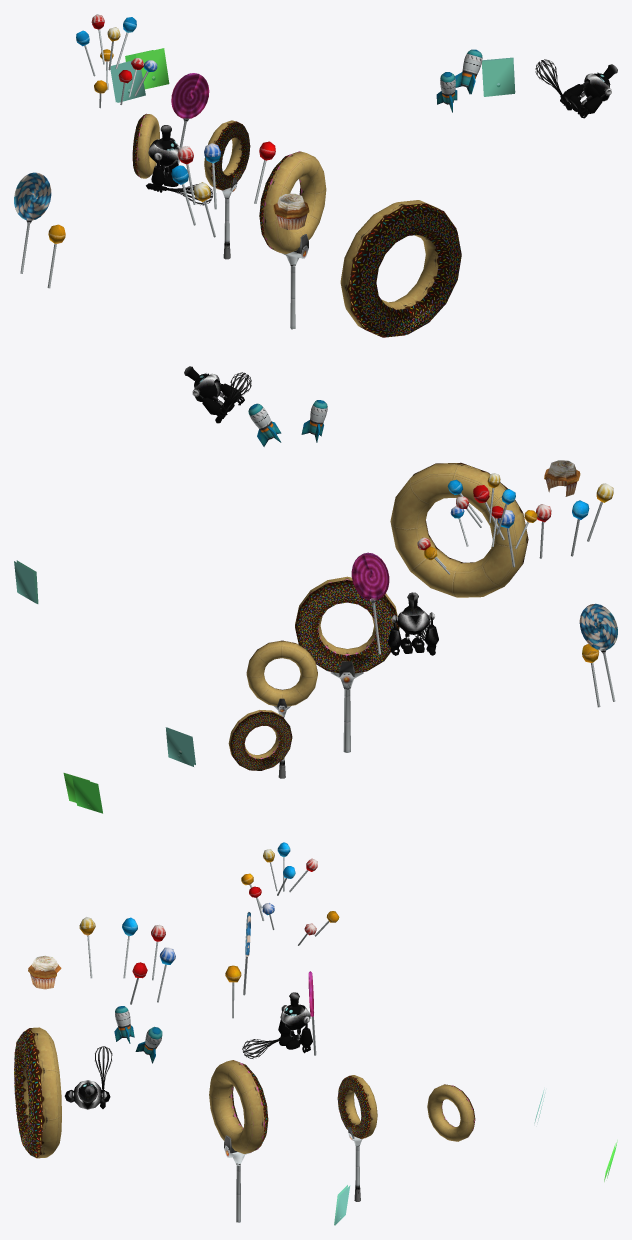
The model's file is MotBase.obj.
3 renders of one model, top to bottom at view 1: azimuth 30°, elevation 25°; view 2: azimuth 150°, elevation 25°; view 3: azimuth 270°, elevation 25°, orthographic. The views are drawn at different scales.
Visible parts, largest first — view 1: polygon62, polygon63, polygon61, polygon68, polygon67, polygon22, polygon19, polygon71, polygon16, polygon18, polygon6, polygon15 (+9 smaller); view 2: polygon64, polygon65, polygon63, polygon74, polygon78, polygon66, polygon22, polygon19, polygon0, polygon73, polygon18, polygon1 (+7 smaller); view 3: polygon62, polygon63, polygon67, polygon68, polygon71, polygon81, polygon18, polygon73, polygon80, polygon0, polygon1, polygon61.
Boxes of the visible parts, left/top/right/bottom form: polygon62: left=348, top=203, right=461, bottom=337; polygon63: left=340, top=200, right=439, bottom=328; polygon61: left=359, top=213, right=460, bottom=333; polygon68: left=275, top=157, right=326, bottom=252; polygon67: left=262, top=151, right=317, bottom=253; polygon22: left=171, top=73, right=209, bottom=118; polygon19: left=14, top=172, right=51, bottom=220; polygon71: left=211, top=121, right=250, bottom=190; polygon16: left=482, top=58, right=514, bottom=96; polygon18: left=273, top=193, right=309, bottom=229; polygon6: left=563, top=73, right=609, bottom=114; polygon15: left=136, top=48, right=169, bottom=89; polygon64: left=391, top=473, right=517, bottom=596; polygon65: left=295, top=580, right=399, bottom=673; polygon63: left=390, top=463, right=528, bottom=597; polygon74: left=248, top=646, right=315, bottom=706; polygon78: left=230, top=711, right=292, bottom=770; polygon66: left=300, top=587, right=393, bottom=671; polygon22: left=351, top=552, right=389, bottom=600; polygon19: left=579, top=603, right=617, bottom=650; polygon0: left=392, top=610, right=434, bottom=653; polygon73: left=246, top=640, right=317, bottom=706; polygon18: left=544, top=460, right=580, bottom=496; polygon1: left=387, top=606, right=438, bottom=655; polygon62: left=14, top=1028, right=42, bottom=1158; polygon63: left=23, top=1027, right=58, bottom=1158; polygon67: left=217, top=1060, right=264, bottom=1153; polygon68: left=209, top=1065, right=252, bottom=1152; polygon71: left=337, top=1075, right=370, bottom=1138; polygon81: left=427, top=1088, right=468, bottom=1140; polygon18: left=28, top=955, right=61, bottom=989; polygon73: left=344, top=1075, right=376, bottom=1138; polygon80: left=429, top=1084, right=474, bottom=1141; polygon0: left=279, top=1004, right=310, bottom=1049; polygon1: left=278, top=1004, right=312, bottom=1053; polygon61: left=14, top=1037, right=33, bottom=1151.
Bounding box in the file's own units: 147 × 84.16 × 154.
Materials: 29 (29 with a texture image).
